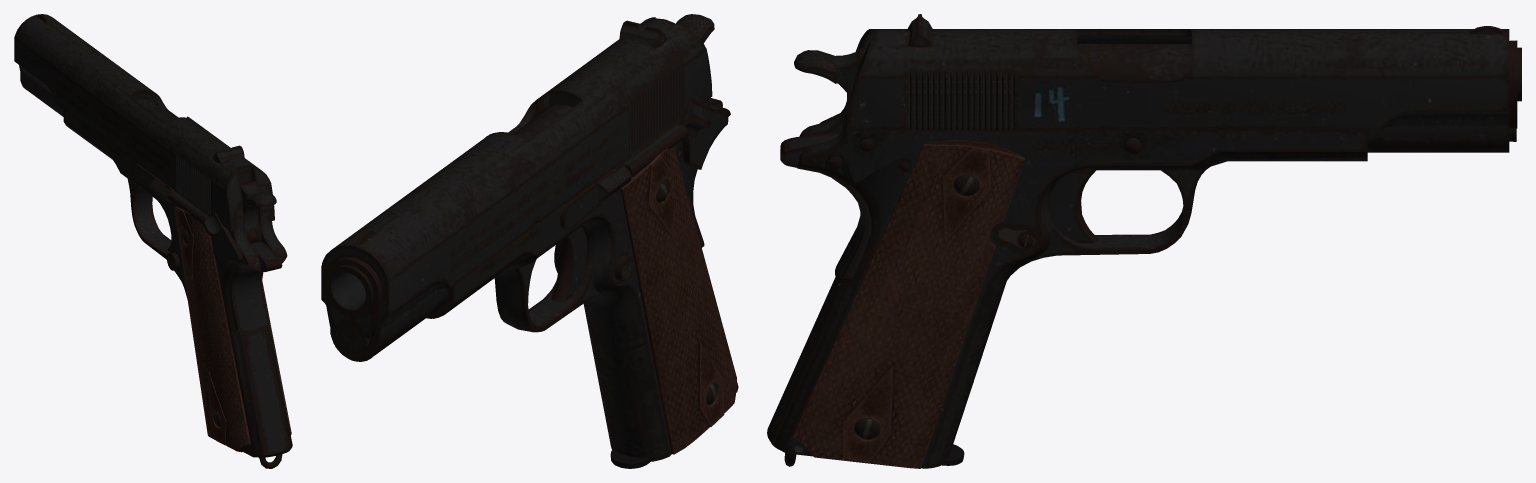
File: pistol_45.glb
3 views of the same model, side by side, from view 1: azimuth 30°, elevation 25°; view 2: azimuth 150°, elevation 25°; view 3: azimuth 270°, elevation 25° (orthographic). The views are drawn at different scales.
Visible parts, largest first — view 1: slide, body; view 2: slide, body; view 3: slide, body.
Boxes of the visible parts, left/top/right/bottom form: slide: left=14, top=14, right=286, bottom=264; body: left=82, top=137, right=292, bottom=468; slide: left=321, top=14, right=728, bottom=361; body: left=349, top=20, right=738, bottom=468; slide: left=784, top=14, right=1521, bottom=183; body: left=767, top=14, right=1367, bottom=468.
Size of the model in its own units: 0.0323 by 0.1399 by 0.216.
Materials: 1 (1 with a texture image).
